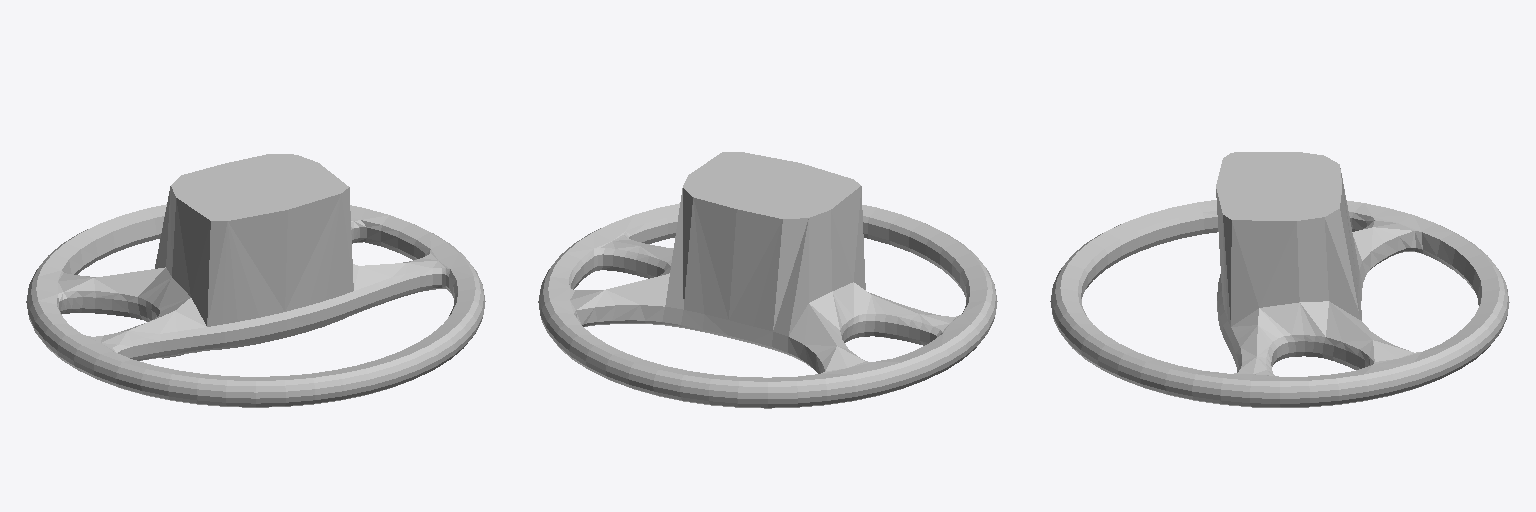
Rendered from steering_wheel.obj.
3 renders of one model, left to right at view 1: azimuth 30°, elevation 25°; view 2: azimuth 150°, elevation 25°; view 3: azimuth 270°, elevation 25°, orthographic.
Visible parts, largest first — view 1: steering_wheel; view 2: steering_wheel; view 3: steering_wheel.
Boxes of the visible parts, box(x1,y1,x2,y2) form: steering_wheel: box(26, 154, 485, 407); steering_wheel: box(538, 152, 997, 408); steering_wheel: box(1050, 152, 1509, 407).
Size of the model in its own units: 12.52 by 4.19 by 12.52.